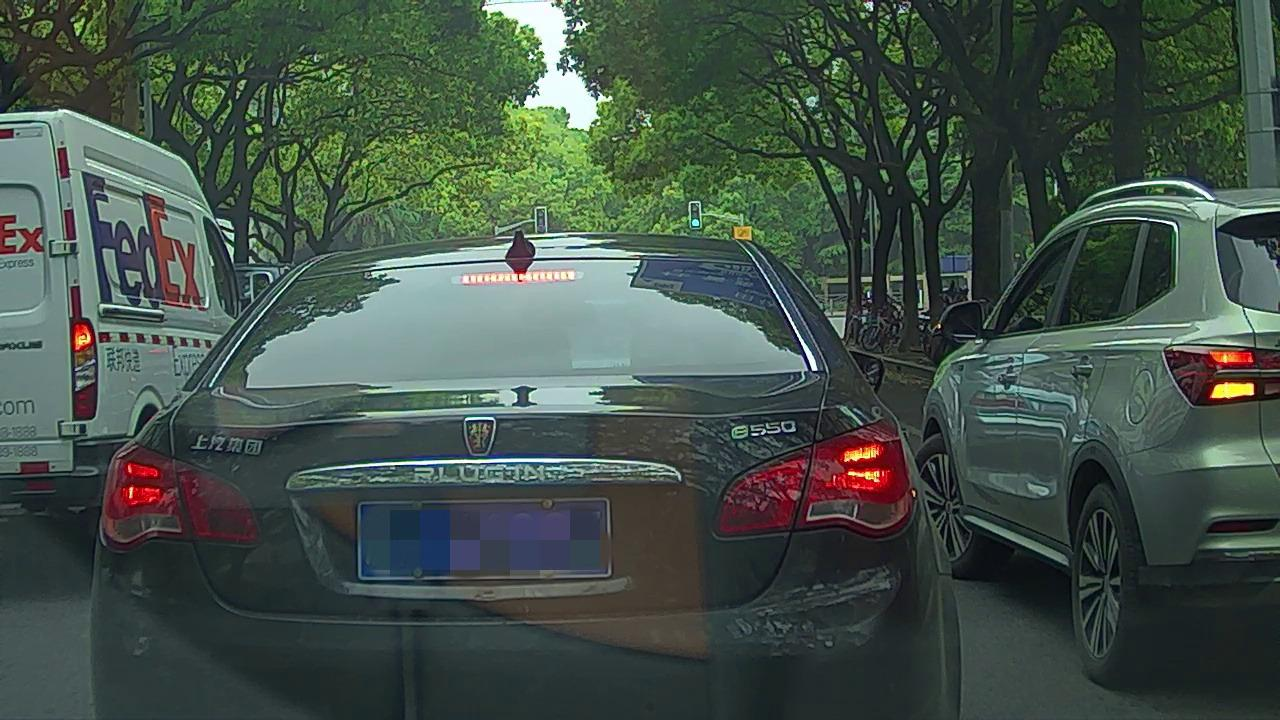traffic_light: (535, 208, 546, 233), (691, 202, 700, 228)
